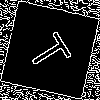T: (25, 25, 80, 76)
